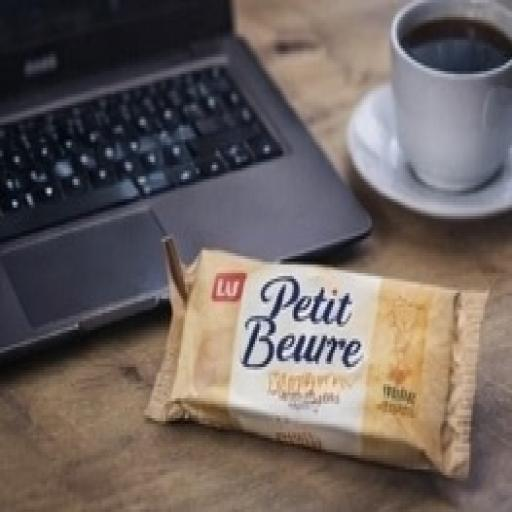petit_beurre: (139, 218, 503, 512)
